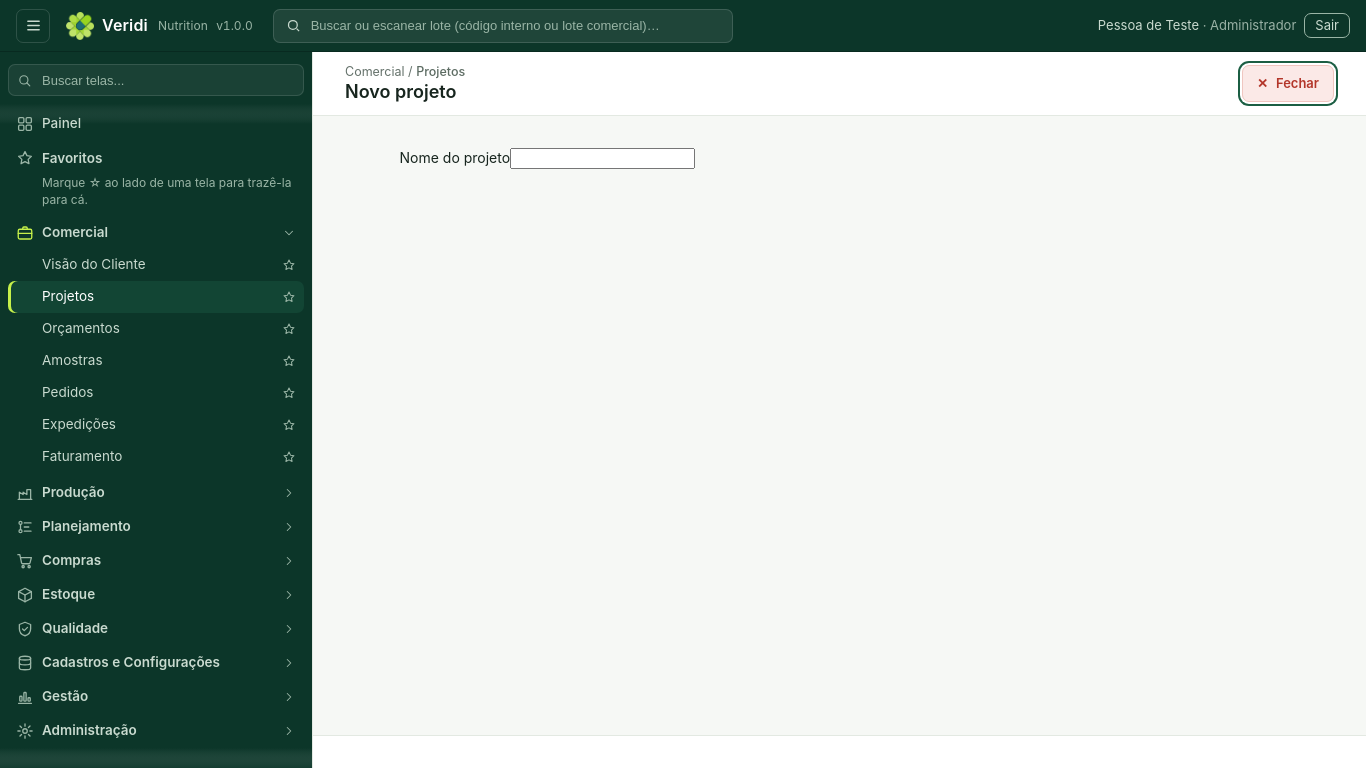
Test: celular — modal de workspace aberto, saída pelo hambúrguer › modal limpo: o drawer abre e a escolha navega direto
This screenshot has width=1366, height=768.
Check: the heading "Novo projeto" is shown, box [345,81,456,104]
Click the button named "Abrir menu".
click(33, 26)  # box [16,8,50,42]
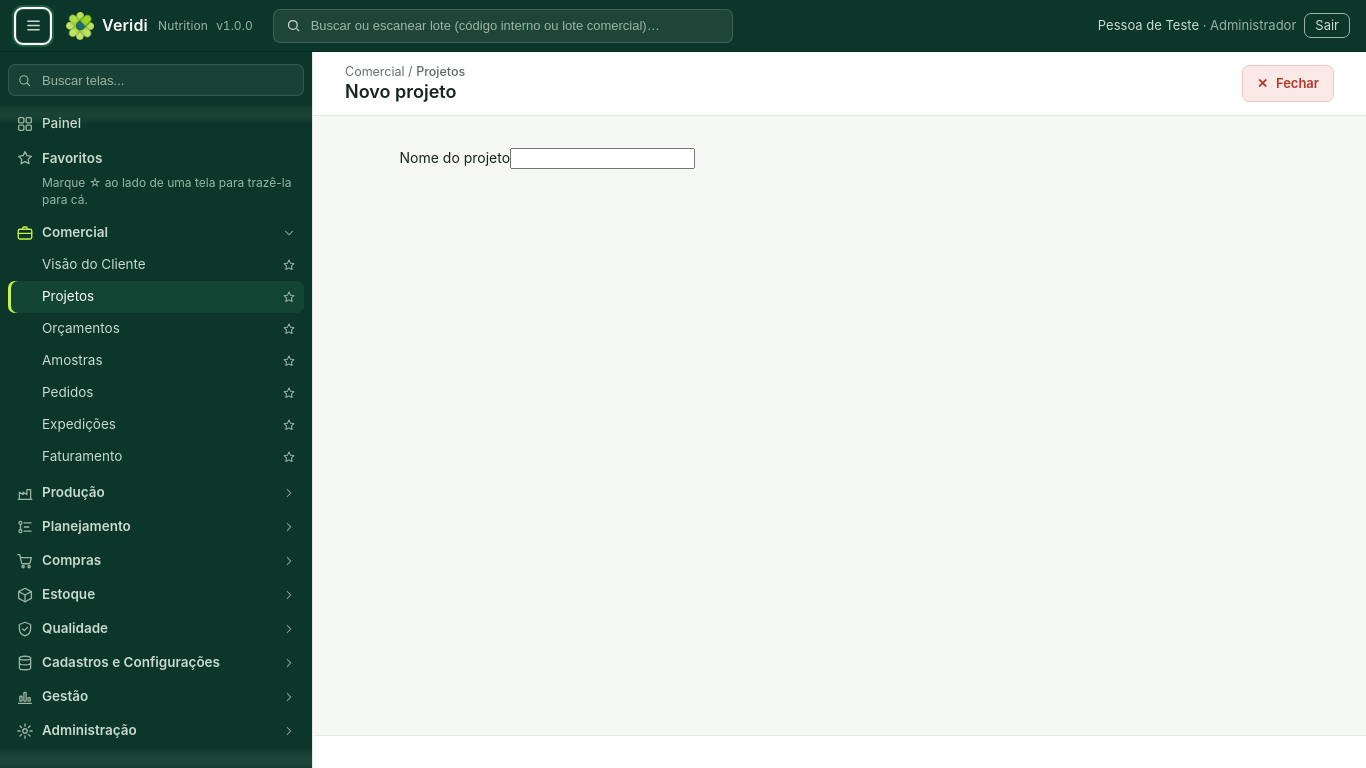
Check: the element with class "shell" has class "shell--nav-open"
Click the link "Pedidos".
click(68, 392)  # box [42,384,94,400]
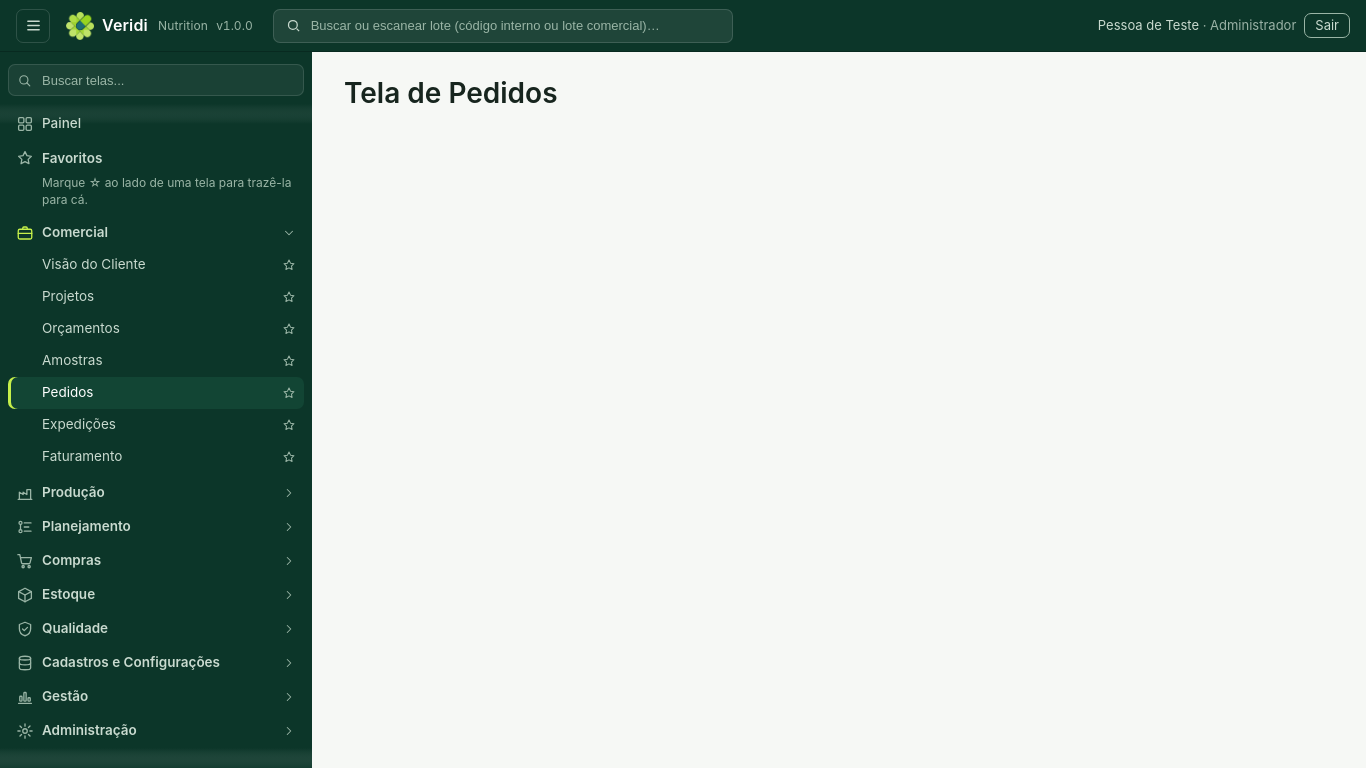
Check: the heading "Tela de Pedidos" is shown, box [344,76,558,110]
Check: the dialog is gone
